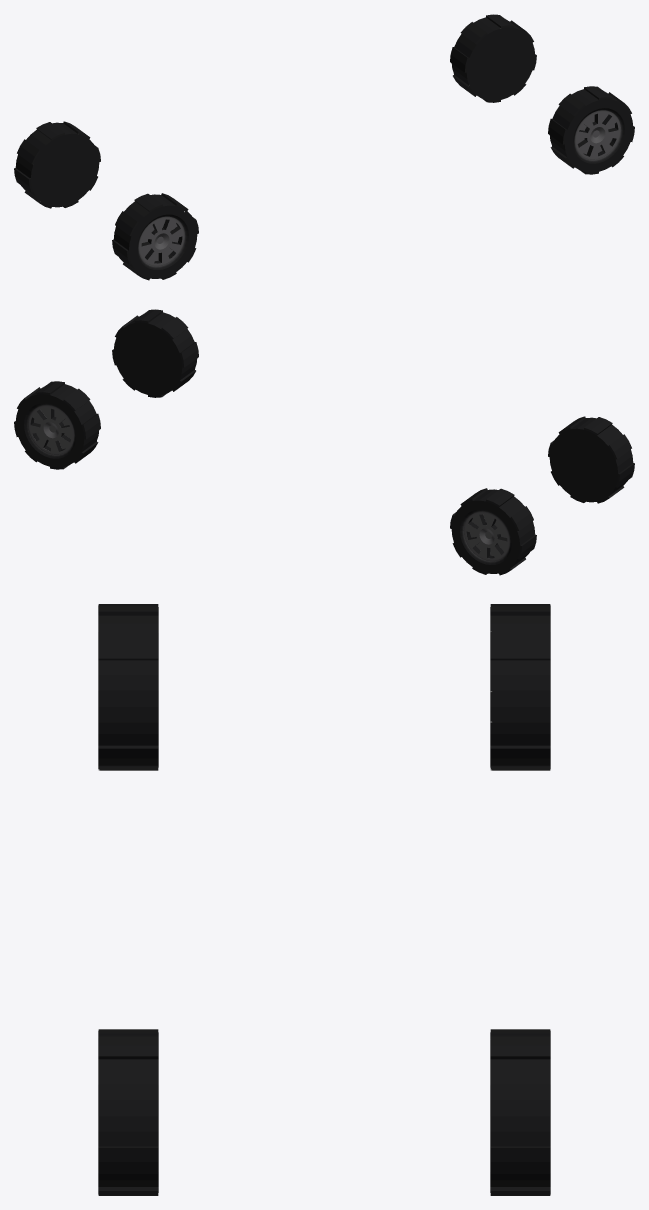
Rendered from BusWheelsSepForAnimation.fbx.
The picture shows the model from 3 angles, top to bottom: view 1: azimuth 30°, elevation 25°; view 2: azimuth 150°, elevation 25°; view 3: azimuth 270°, elevation 25°; orthographic projection. The views are drawn at different scales.
Parts seen in each view (by area): view 1: Cylinder, Cylinder.001, Cylinder.003, Cylinder.002; view 2: Cylinder.002, Cylinder.001, Cylinder.003, Cylinder; view 3: Cylinder, Cylinder.001, Cylinder.002, Cylinder.003.
Boxes of the visible parts, box(x1,y1,x2,y2) form: Cylinder: box(14, 121, 100, 208); Cylinder.001: box(450, 14, 536, 102); Cylinder.003: box(548, 86, 634, 174); Cylinder.002: box(112, 193, 198, 280); Cylinder.002: box(548, 416, 634, 503); Cylinder.001: box(14, 381, 100, 469); Cylinder.003: box(112, 309, 198, 397); Cylinder: box(450, 488, 536, 575); Cylinder: box(490, 604, 550, 770); Cylinder.001: box(490, 1029, 550, 1195); Cylinder.002: box(98, 604, 158, 770); Cylinder.003: box(98, 1029, 158, 1195).
Size of the model in its own units: 712 by 101 by 275.
